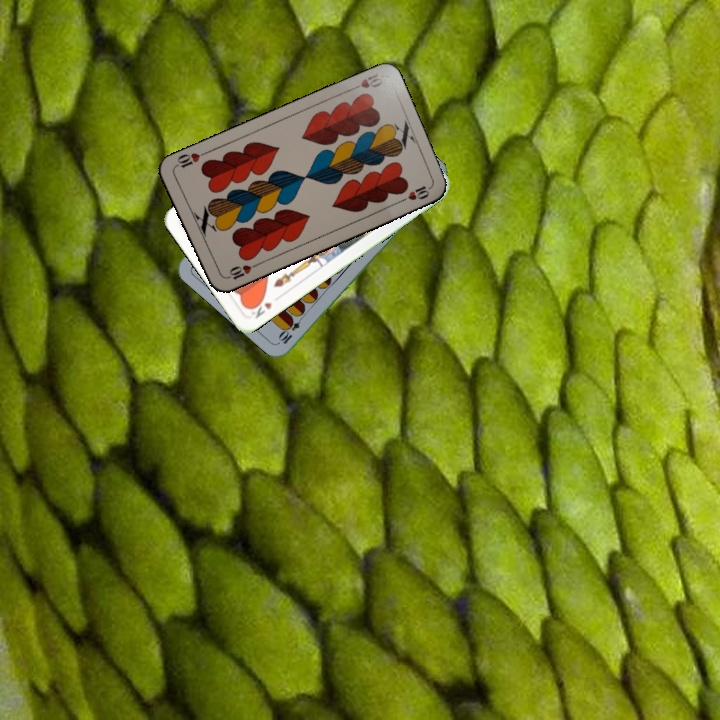E10: (275, 310, 307, 346)
H10: (345, 68, 385, 94), (221, 260, 260, 282)
HK: (243, 295, 275, 321)
